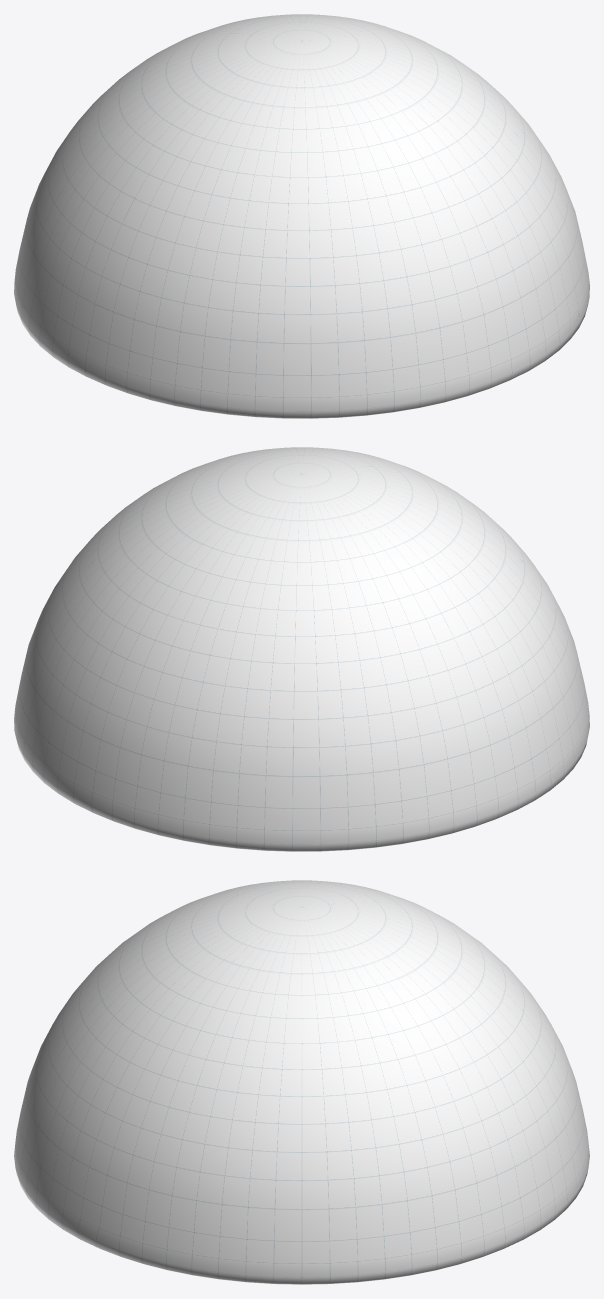
The model's file is wall_Grid_220905.fbx.
3 views of the same model, one above another, from view 1: azimuth 30°, elevation 25°; view 2: azimuth 150°, elevation 25°; view 3: azimuth 270°, elevation 25° (orthographic).
Parts seen in each view (by area): view 1: Grid_Wall; view 2: Grid_Wall; view 3: Grid_Wall.
Boxes of the visible parts, x1=… form: Grid_Wall: x1=14, y1=14, x2=589, y2=418; Grid_Wall: x1=14, y1=447, x2=589, y2=851; Grid_Wall: x1=14, y1=880, x2=589, y2=1284.
Size of the model in its own units: 10000 by 5037 by 10000.
